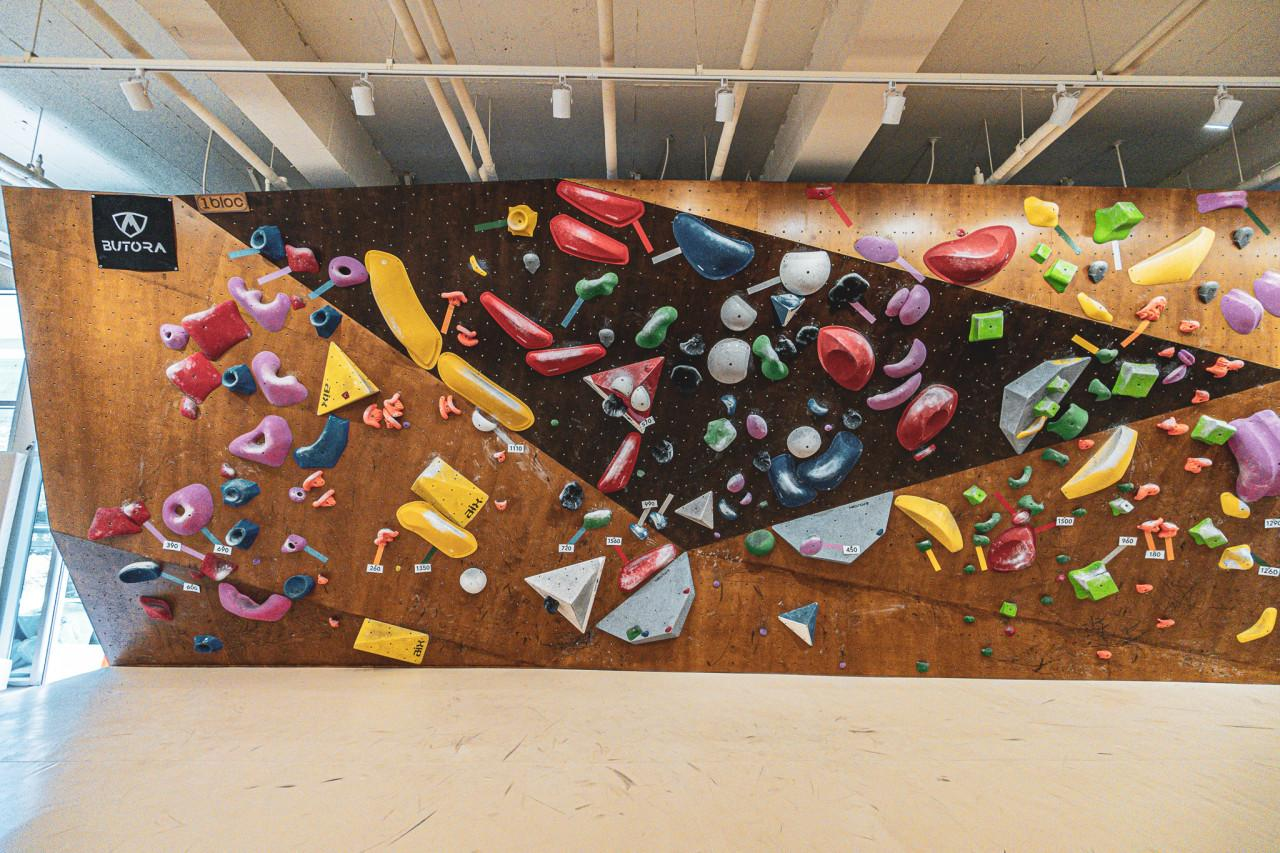hold: (365, 250, 443, 370), (438, 352, 534, 430), (1061, 426, 1136, 499), (924, 225, 1016, 284), (673, 213, 754, 280), (1129, 227, 1214, 284), (1228, 409, 1279, 503), (397, 501, 476, 557), (182, 298, 250, 359), (480, 292, 553, 348), (555, 181, 643, 227), (897, 385, 957, 449), (895, 496, 962, 552), (798, 431, 862, 489), (817, 326, 875, 390), (550, 215, 627, 263), (228, 277, 290, 331), (229, 415, 292, 466), (293, 414, 349, 468), (251, 351, 307, 404), (167, 351, 220, 405), (218, 583, 290, 621), (619, 544, 677, 591), (597, 432, 640, 493), (163, 484, 213, 535), (526, 344, 606, 375), (769, 454, 815, 506), (987, 523, 1035, 572), (781, 252, 830, 295), (1092, 202, 1143, 243), (867, 372, 921, 409), (707, 338, 750, 383), (1221, 289, 1264, 333), (1069, 561, 1117, 599), (635, 306, 677, 347), (1111, 362, 1159, 396), (884, 339, 926, 377), (91, 505, 142, 535), (781, 603, 817, 645), (752, 335, 787, 378), (675, 491, 713, 528), (1048, 404, 1088, 439), (1237, 607, 1276, 642), (830, 272, 869, 307), (721, 295, 757, 331), (251, 225, 284, 263), (1192, 415, 1235, 444), (575, 272, 618, 300), (900, 285, 930, 325), (771, 293, 805, 328), (1189, 518, 1227, 549), (328, 256, 367, 286), (855, 235, 898, 262), (1254, 271, 1279, 316), (787, 426, 821, 459), (1197, 190, 1247, 212), (309, 304, 341, 338), (1024, 196, 1059, 227), (222, 479, 260, 506), (704, 419, 736, 451), (1045, 260, 1077, 292), (969, 311, 1002, 341), (222, 365, 256, 394), (1077, 293, 1112, 321), (119, 560, 161, 583), (226, 519, 259, 548), (508, 204, 537, 237), (200, 553, 234, 580), (1219, 544, 1254, 569), (285, 245, 318, 271), (670, 365, 700, 392), (1206, 357, 1244, 378), (284, 574, 315, 599), (1221, 492, 1250, 518), (745, 529, 774, 555), (139, 596, 172, 618), (1137, 297, 1167, 321), (160, 323, 188, 347), (559, 482, 583, 510), (460, 568, 486, 593), (887, 288, 910, 316), (1018, 416, 1047, 438), (602, 393, 627, 417), (1158, 416, 1189, 435), (472, 410, 498, 432), (583, 509, 611, 529), (610, 372, 633, 396), (1087, 378, 1111, 401), (1009, 465, 1032, 489), (439, 395, 461, 420), (680, 333, 705, 355), (122, 502, 148, 523), (974, 513, 1001, 533), (650, 440, 673, 463), (1046, 374, 1070, 396), (384, 392, 405, 417), (631, 385, 650, 412), (456, 325, 479, 347), (795, 326, 818, 348), (1196, 281, 1219, 303), (1231, 226, 1254, 248), (747, 413, 767, 438), (1018, 495, 1043, 515), (194, 635, 223, 652), (1087, 260, 1108, 283), (798, 536, 823, 555), (1162, 365, 1186, 384), (1034, 397, 1058, 416), (281, 534, 306, 552), (374, 528, 399, 546), (1043, 448, 1068, 466), (1134, 483, 1160, 500), (775, 334, 796, 355), (303, 471, 325, 491), (1109, 497, 1133, 515), (363, 405, 382, 427), (964, 485, 986, 504), (442, 291, 468, 307), (313, 489, 336, 507), (1030, 244, 1051, 263), (843, 409, 862, 429), (470, 255, 488, 276), (383, 408, 401, 429), (523, 251, 540, 273), (1187, 458, 1211, 473), (914, 444, 935, 461), (181, 396, 197, 418), (807, 187, 834, 200), (753, 452, 771, 471), (719, 500, 736, 519), (807, 399, 827, 414), (646, 514, 666, 529), (1095, 350, 1118, 363), (1138, 520, 1161, 533), (627, 624, 643, 642), (999, 601, 1017, 617), (728, 473, 743, 492), (544, 595, 559, 614), (599, 328, 614, 347), (1179, 320, 1200, 333), (721, 396, 735, 415), (629, 524, 648, 538), (1178, 350, 1195, 365), (1160, 522, 1177, 537), (1011, 510, 1029, 524), (289, 488, 305, 501), (290, 295, 304, 309), (1192, 391, 1209, 402), (916, 540, 931, 551), (221, 465, 234, 477), (1157, 619, 1174, 628), (1136, 584, 1153, 593), (974, 534, 989, 544), (1120, 483, 1135, 493), (1160, 347, 1175, 357), (189, 571, 204, 581), (493, 451, 506, 462), (738, 493, 751, 504), (494, 499, 506, 510), (1057, 555, 1070, 565), (1080, 439, 1093, 449), (917, 662, 929, 672), (1097, 650, 1111, 658), (1041, 595, 1053, 604), (317, 575, 328, 584), (981, 647, 992, 656), (1074, 508, 1086, 516), (1004, 626, 1014, 635), (963, 565, 974, 573), (330, 617, 339, 626), (1056, 573, 1066, 581), (957, 228, 966, 236), (758, 500, 767, 508), (677, 598, 686, 606), (664, 625, 672, 633), (713, 579, 720, 588), (402, 421, 410, 428), (824, 424, 832, 431), (551, 419, 559, 426), (965, 616, 974, 622), (683, 587, 690, 594), (839, 661, 846, 668), (253, 558, 261, 564), (636, 470, 644, 475), (714, 532, 720, 538), (642, 631, 649, 636), (760, 629, 767, 634), (396, 566, 401, 571)
volume: (597, 551, 695, 643), (773, 492, 893, 563), (1000, 359, 1089, 452), (582, 357, 666, 436), (524, 557, 605, 632), (412, 455, 487, 526), (317, 342, 378, 414), (355, 618, 429, 664)
